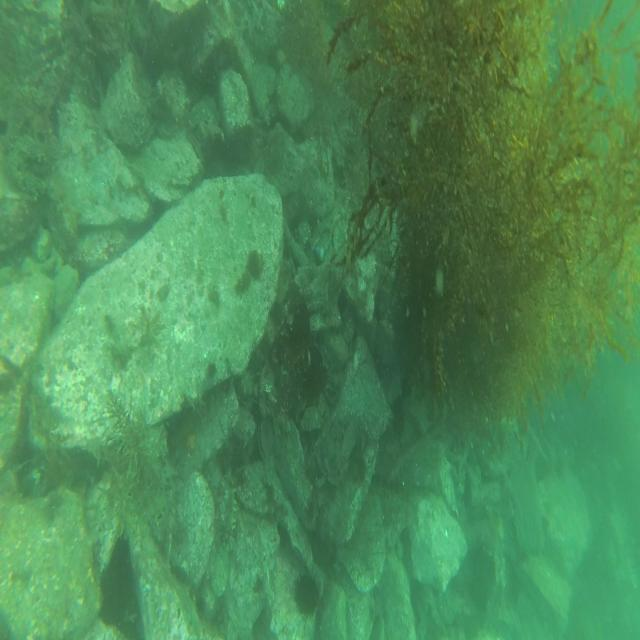echinus: (292, 566, 321, 615)
holothurian: (215, 466, 241, 554)
